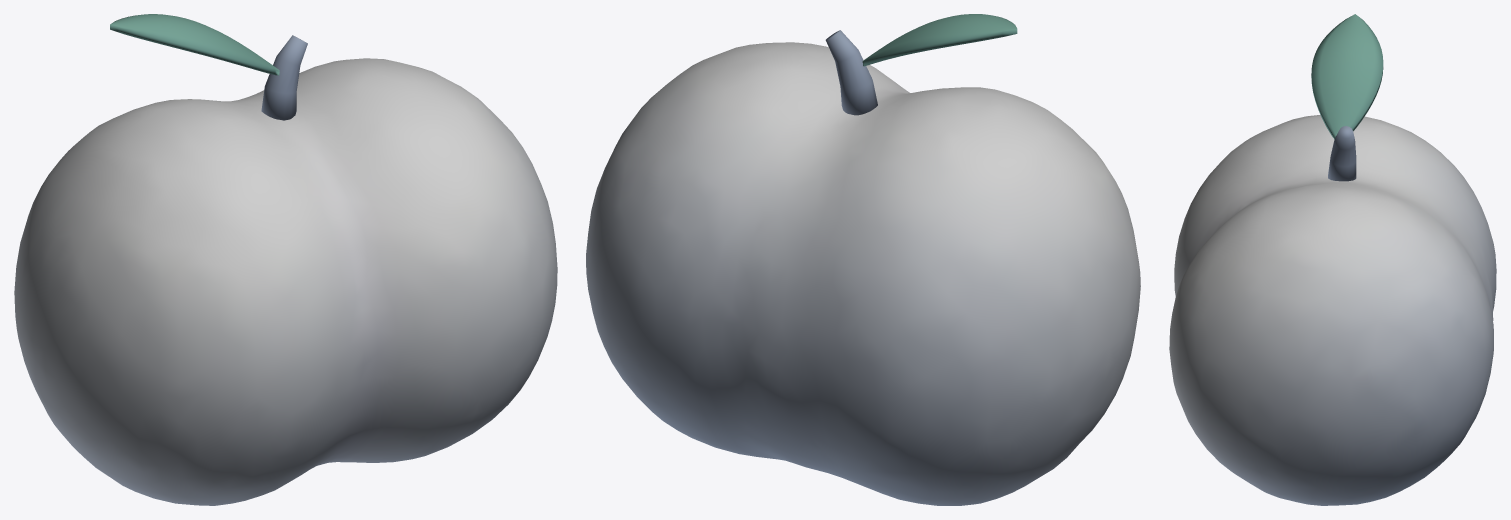
Rendered from Puff_Peach.glb.
3 views of the same model, side by side, from view 1: azimuth 30°, elevation 25°; view 2: azimuth 150°, elevation 25°; view 3: azimuth 270°, elevation 25° (orthographic). The views are drawn at different scales.
Parts seen in each view (by area): view 1: Puff_Peach; view 2: Puff_Peach; view 3: Puff_Peach.
Part boxes in pixels (x1,y1,x2,y2): Puff_Peach: [14, 14, 557, 505]; Puff_Peach: [586, 14, 1140, 505]; Puff_Peach: [1169, 14, 1496, 505].
Size of the model in its own units: 0.3413 by 0.3205 by 0.2474.
